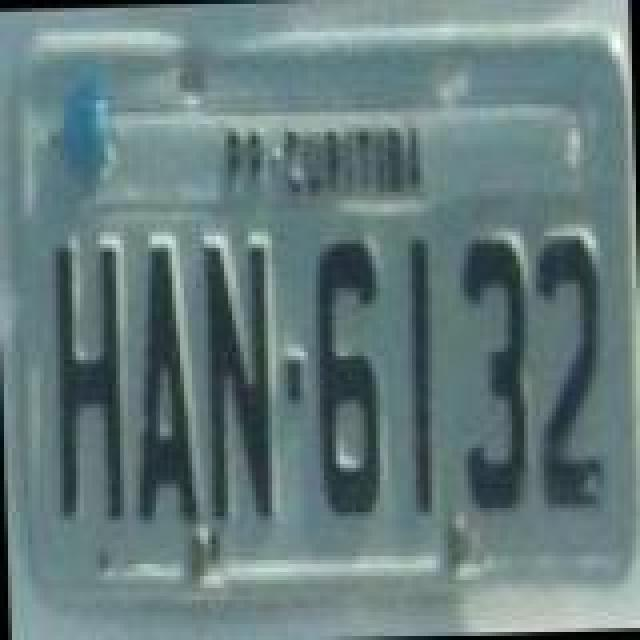1: (406, 232, 442, 520)
2: (532, 228, 612, 516)
3: (456, 230, 536, 522)
6: (314, 230, 390, 522)
A: (128, 232, 200, 536)
H: (48, 224, 128, 528)
N: (200, 226, 280, 526)
